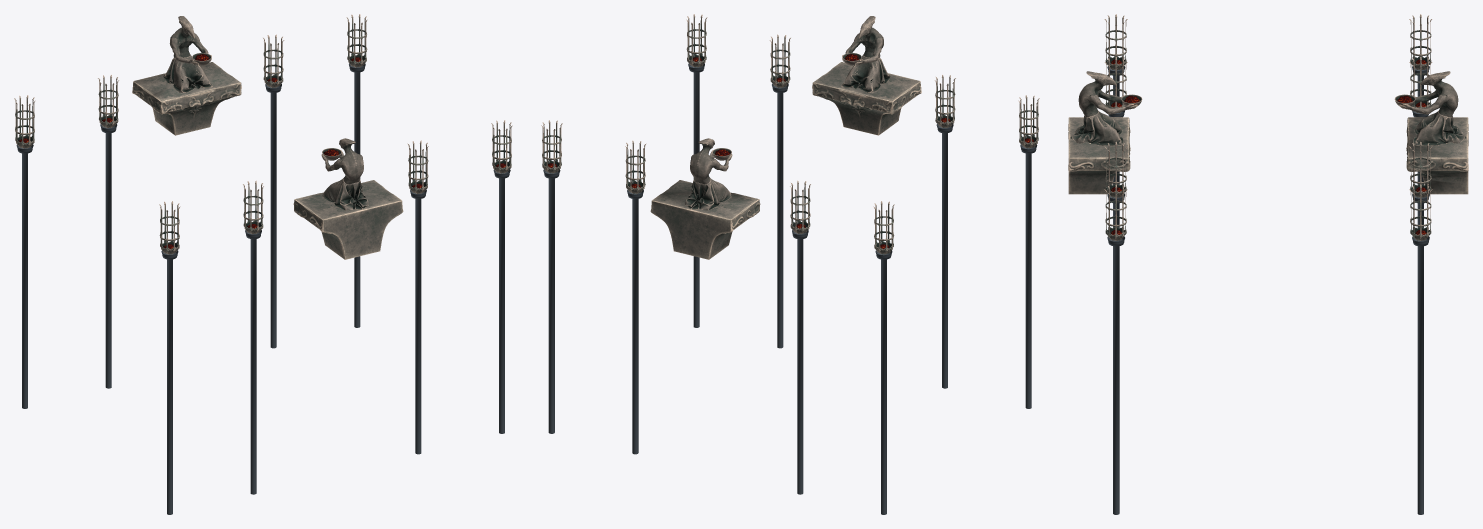
File: per100.glb
3 renders of one model, left to right at view 1: azimuth 30°, elevation 25°; view 2: azimuth 150°, elevation 25°; view 3: azimuth 270°, elevation 25°, orthographic. The views are drawn at different scales.
Parts seen in each view (by area): view 1: per100; view 2: per100; view 3: per100.
Part boxes in pixels (box(x1,y1,x2,y2)): per100: box(14, 14, 512, 514); per100: box(541, 14, 1039, 514); per100: box(1068, 14, 1468, 514).
Size of the model in its own units: 1.12 by 1.04 by 1.05.
Materials: 5 (4 with a texture image).
